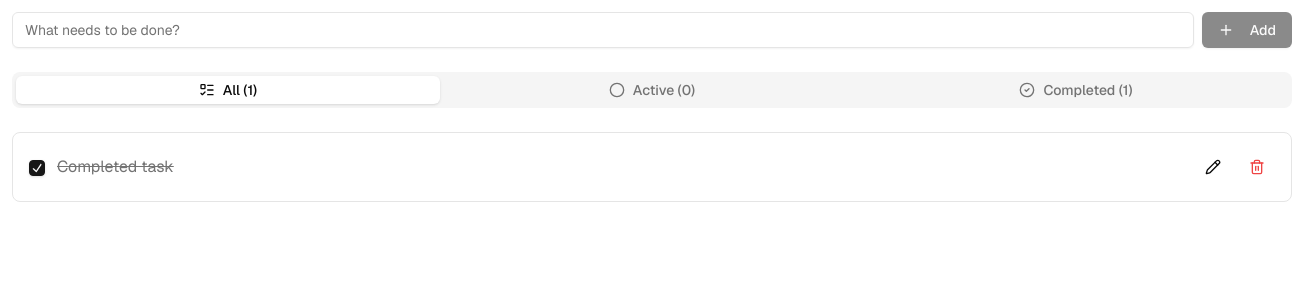
Test: TodoList › should show empty state for active todos when all are completed
Click the tab "Active (0)": (652, 90) 440,76 -> 864,104
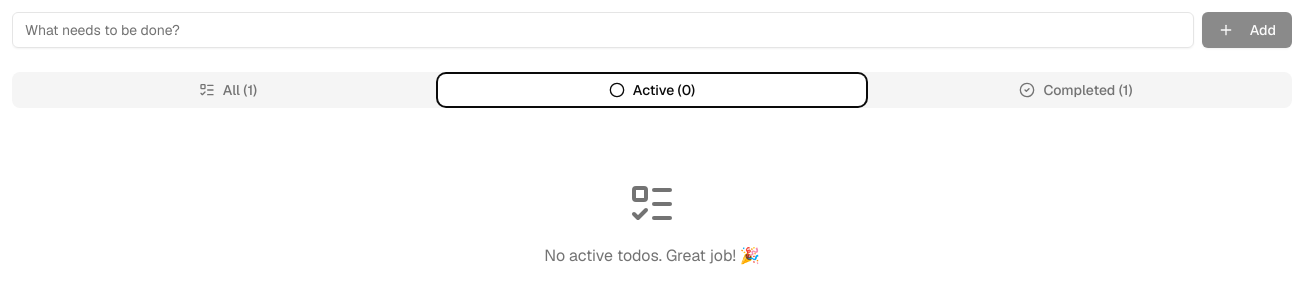
Expected: the text "No active todos. Great job! 🎉" is shown, 544,244 -> 760,268
